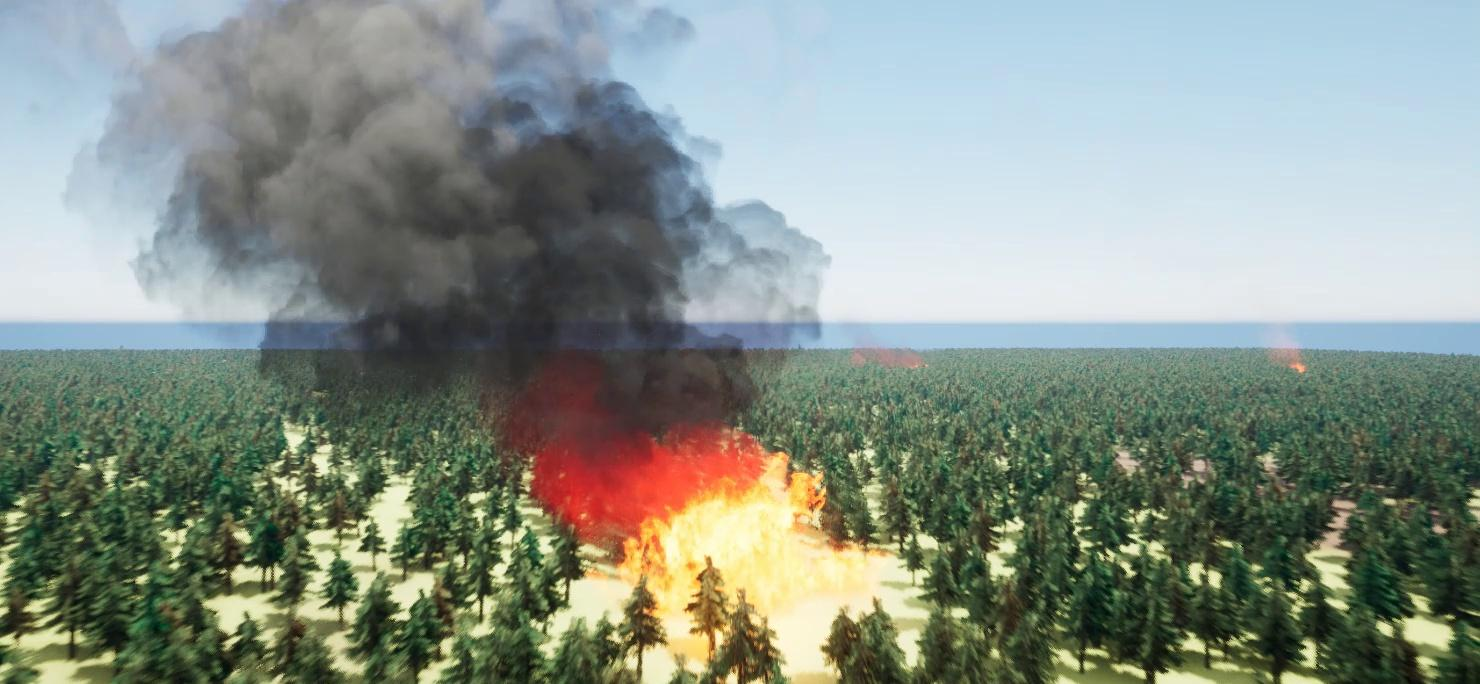fire: (539, 454, 901, 653)
smoke: (0, 0, 836, 451), (844, 336, 933, 376), (1268, 323, 1313, 379)
